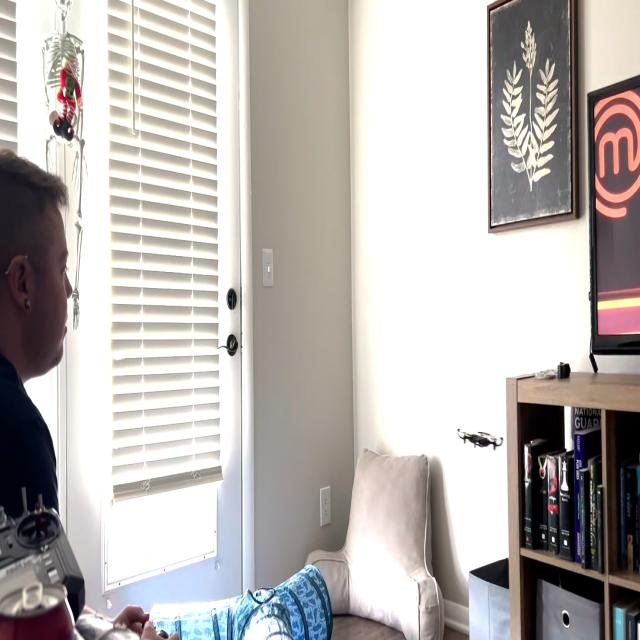drone: (449, 414, 506, 458)
